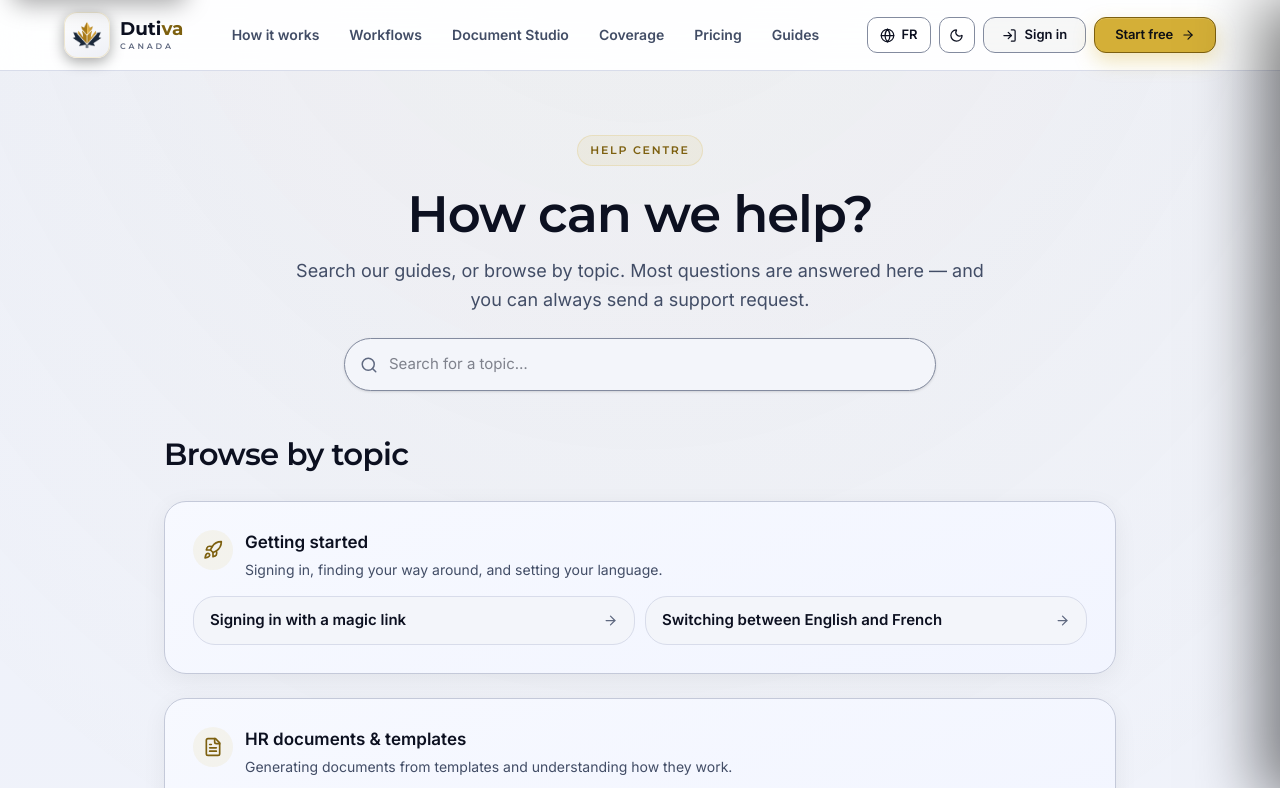
Test case: HelpCenterPage › filters to matching articles as the visitor searches
This screenshot has width=1280, height=788.
Type "magic link" into the search field at (640, 365), box [344,338,936,391]
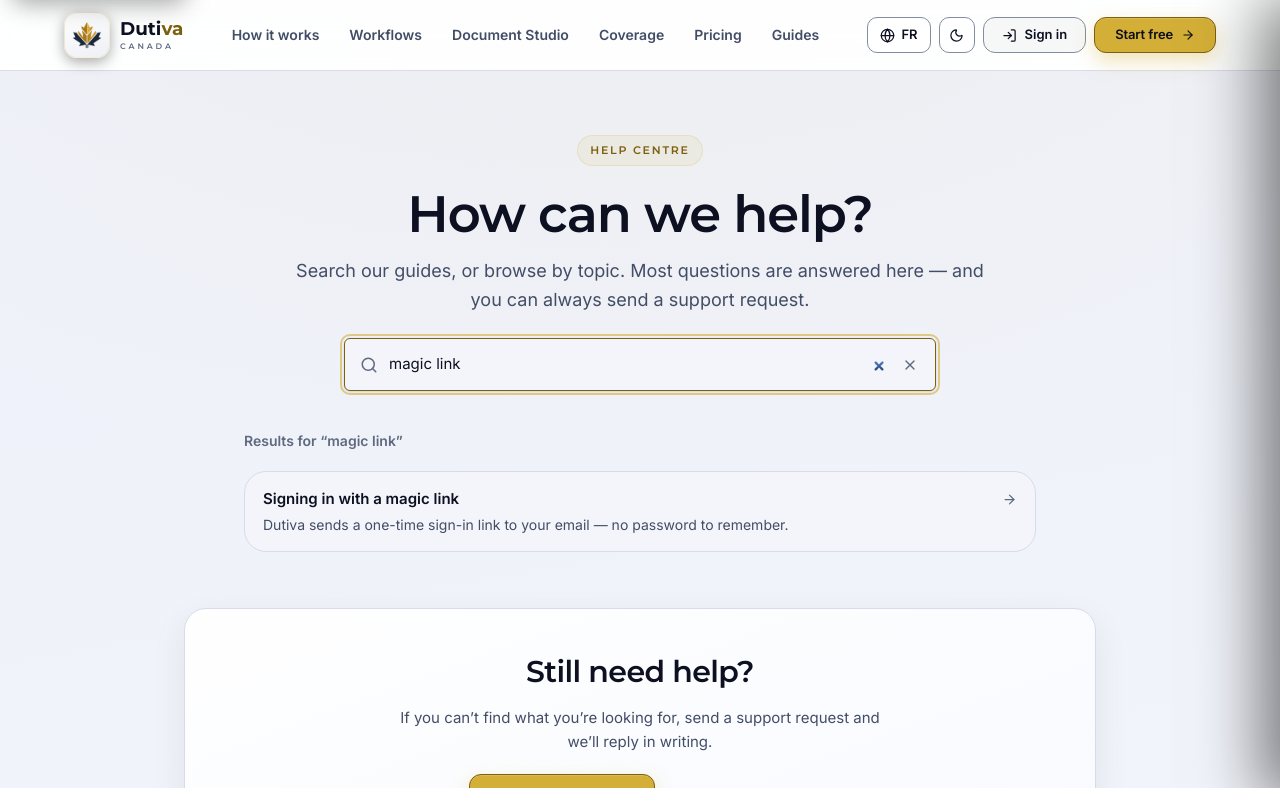
Expected: the heading "Results for “magic link”" is shown, [244,432,403,449]
Expected: the link "Signing in with a magic link" is shown, [244,471,1036,552]
